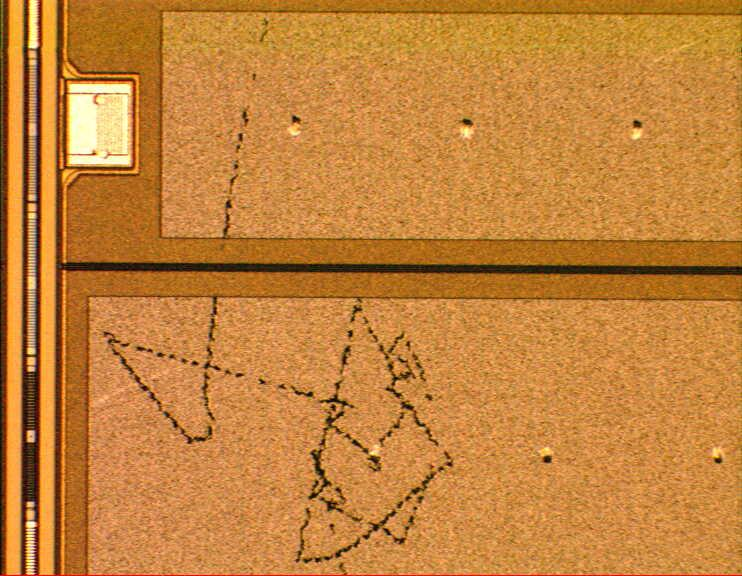SCRATCH: (86, 8, 466, 576)
